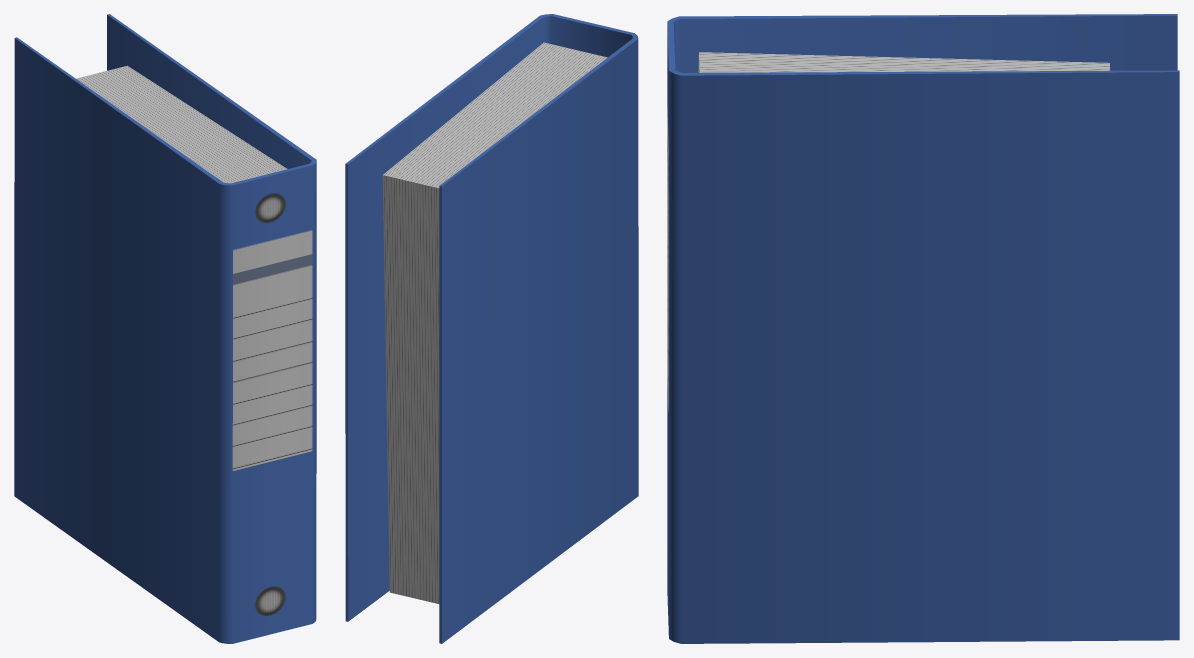
Rendered from Office file binder_006.FBX.
3 renders of one model, left to right at view 1: azimuth 30°, elevation 25°; view 2: azimuth 150°, elevation 25°; view 3: azimuth 270°, elevation 25°, orthographic. The views are drawn at different scales.
Visible parts, largest first — view 1: Office file binder_006; view 2: Office file binder_006; view 3: Office file binder_006.
Part boxes in pixels (<box>): Office file binder_006: <box>14,14,316,643</box>; Office file binder_006: <box>345,14,638,643</box>; Office file binder_006: <box>667,14,1179,643</box>.
Bounding box in the file's own units: 0.0746 × 0.3203 × 0.2617.
